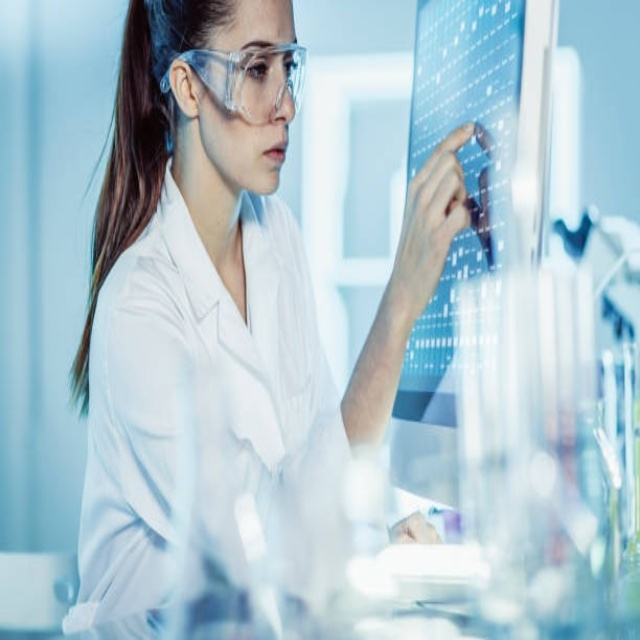Gafas: (165, 45, 308, 124)
Sin_guantes: (384, 114, 478, 309)
Sin_mascara: (248, 132, 293, 193)
